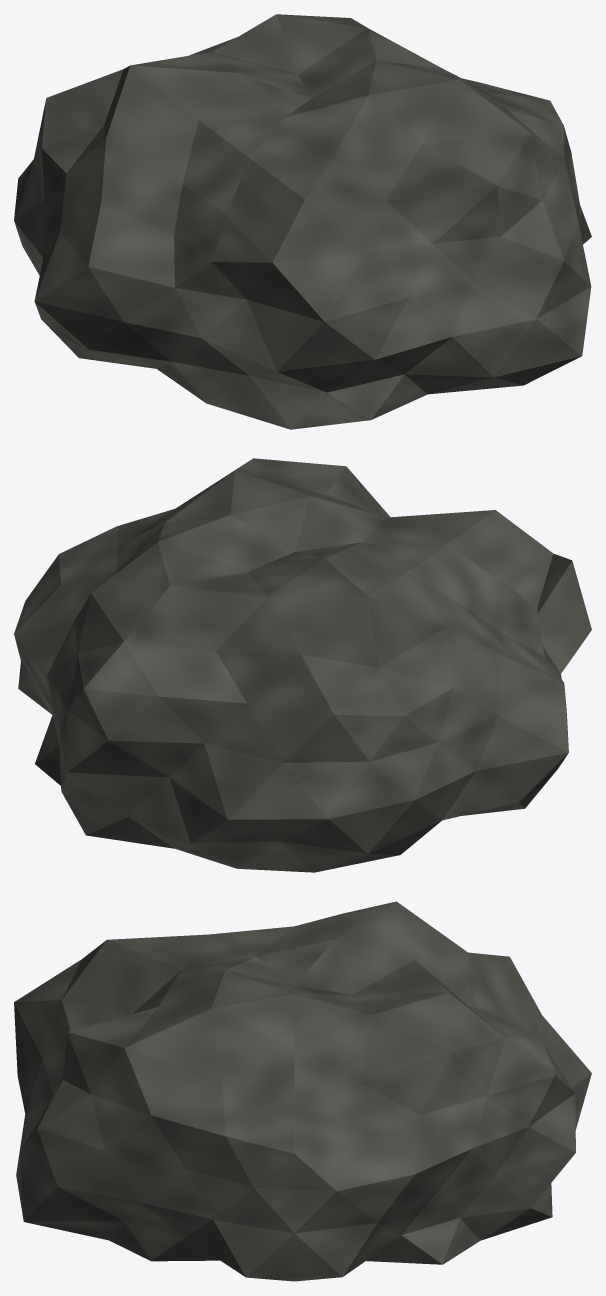
Rendered from Rock_5.fbx.
The picture shows the model from 3 angles, top to bottom: view 1: azimuth 30°, elevation 25°; view 2: azimuth 150°, elevation 25°; view 3: azimuth 270°, elevation 25°; orthographic projection. The views are drawn at different scales.
Parts seen in each view (by area): view 1: Rock_5; view 2: Rock_5; view 3: Rock_5.
Boxes of the visible parts, box(x1,y1,x2,y2) form: Rock_5: box(14, 14, 591, 429); Rock_5: box(14, 458, 591, 872); Rock_5: box(14, 901, 591, 1281).
Bounding box in the file's own units: 209 × 90.84 × 206.
